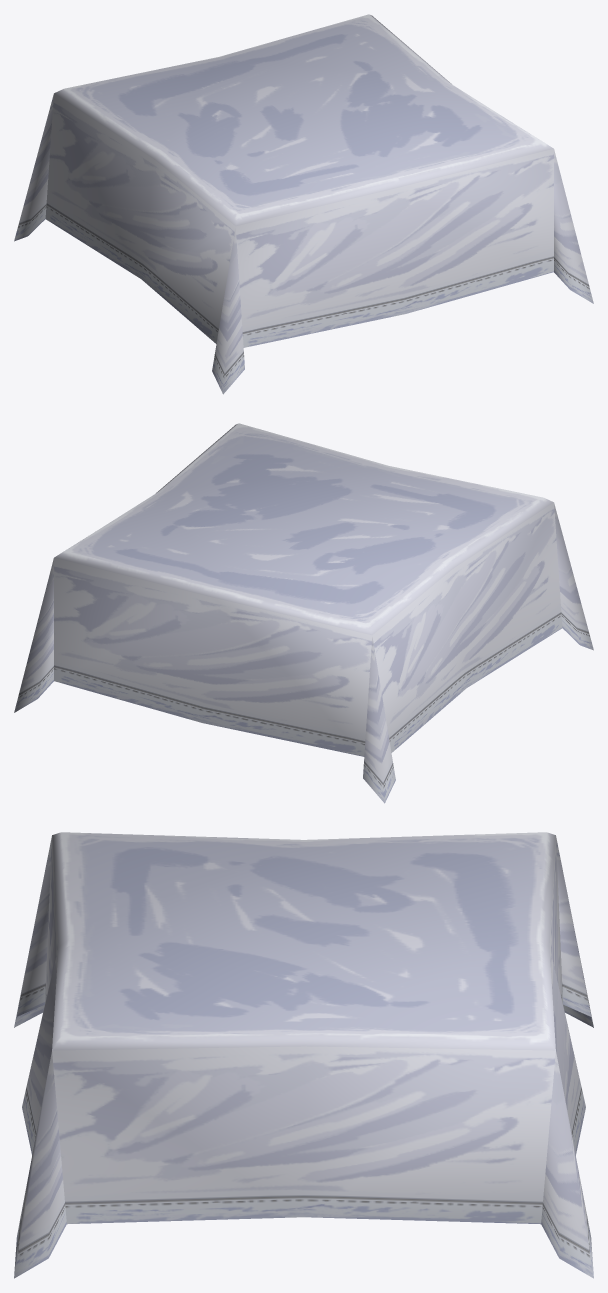
The model's file is SM_PROP_tablecloth_city_02.fbx.
3 renders of one model, top to bottom at view 1: azimuth 30°, elevation 25°; view 2: azimuth 150°, elevation 25°; view 3: azimuth 270°, elevation 25°, orthographic. The views are drawn at different scales.
Parts seen in each view (by area): view 1: SM_PROP_tablecloth_city_02; view 2: SM_PROP_tablecloth_city_02; view 3: SM_PROP_tablecloth_city_02.
Part boxes in pixels (box(x1,y1,x2,y2)): SM_PROP_tablecloth_city_02: box(14, 14, 593, 394); SM_PROP_tablecloth_city_02: box(14, 423, 593, 803); SM_PROP_tablecloth_city_02: box(14, 832, 593, 1278).
Bounding box in the file's own units: 122 × 49.44 × 119.
